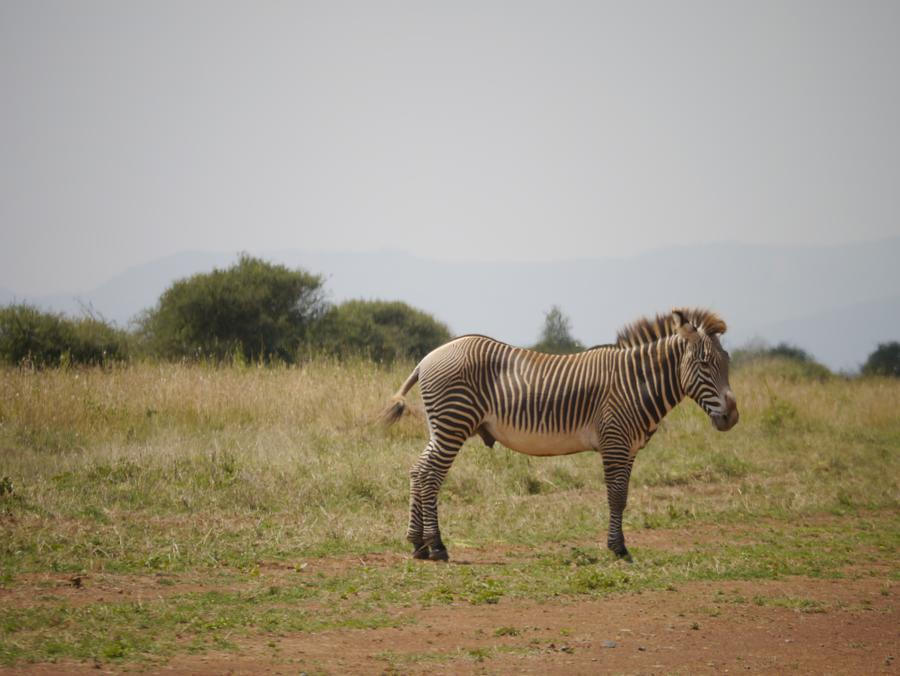zebra_grevys: (421, 320, 639, 450)
